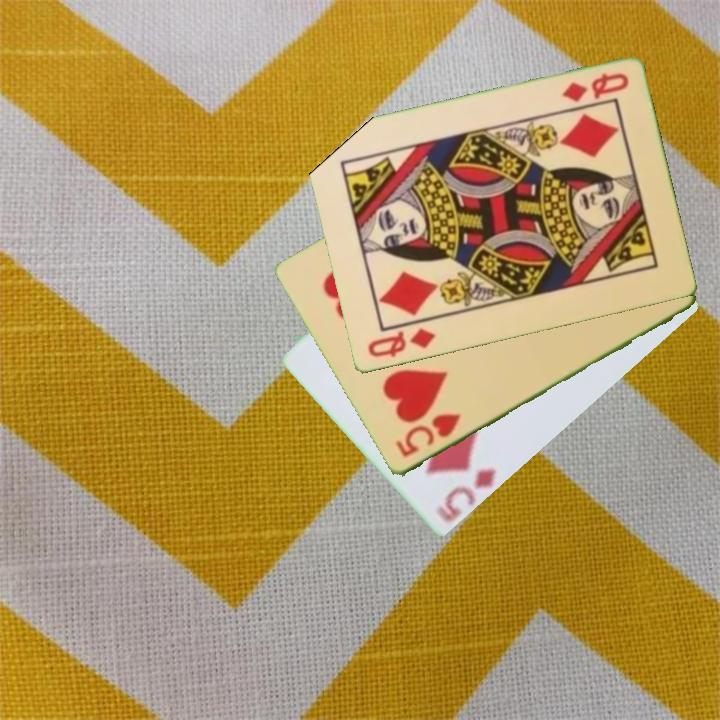5d: (433, 465, 500, 526)
5h: (392, 410, 464, 461)
Qd: (557, 70, 632, 106), (364, 325, 438, 361)
